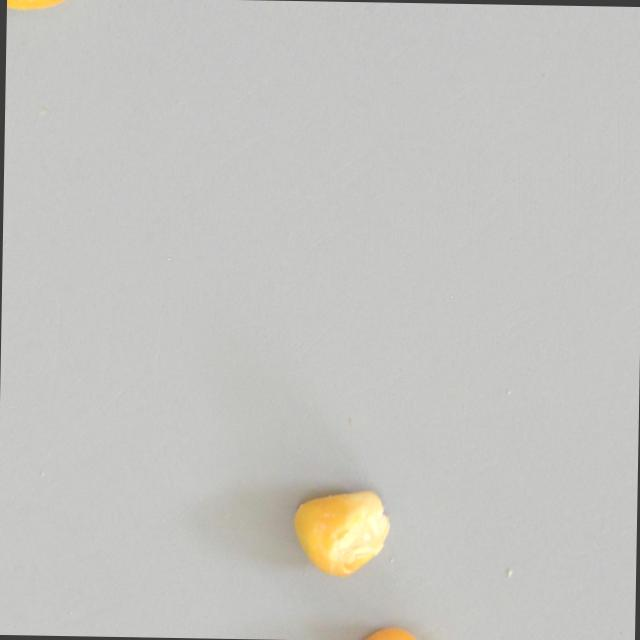no_desgerminado: (285, 483, 394, 582), (337, 623, 462, 640)
